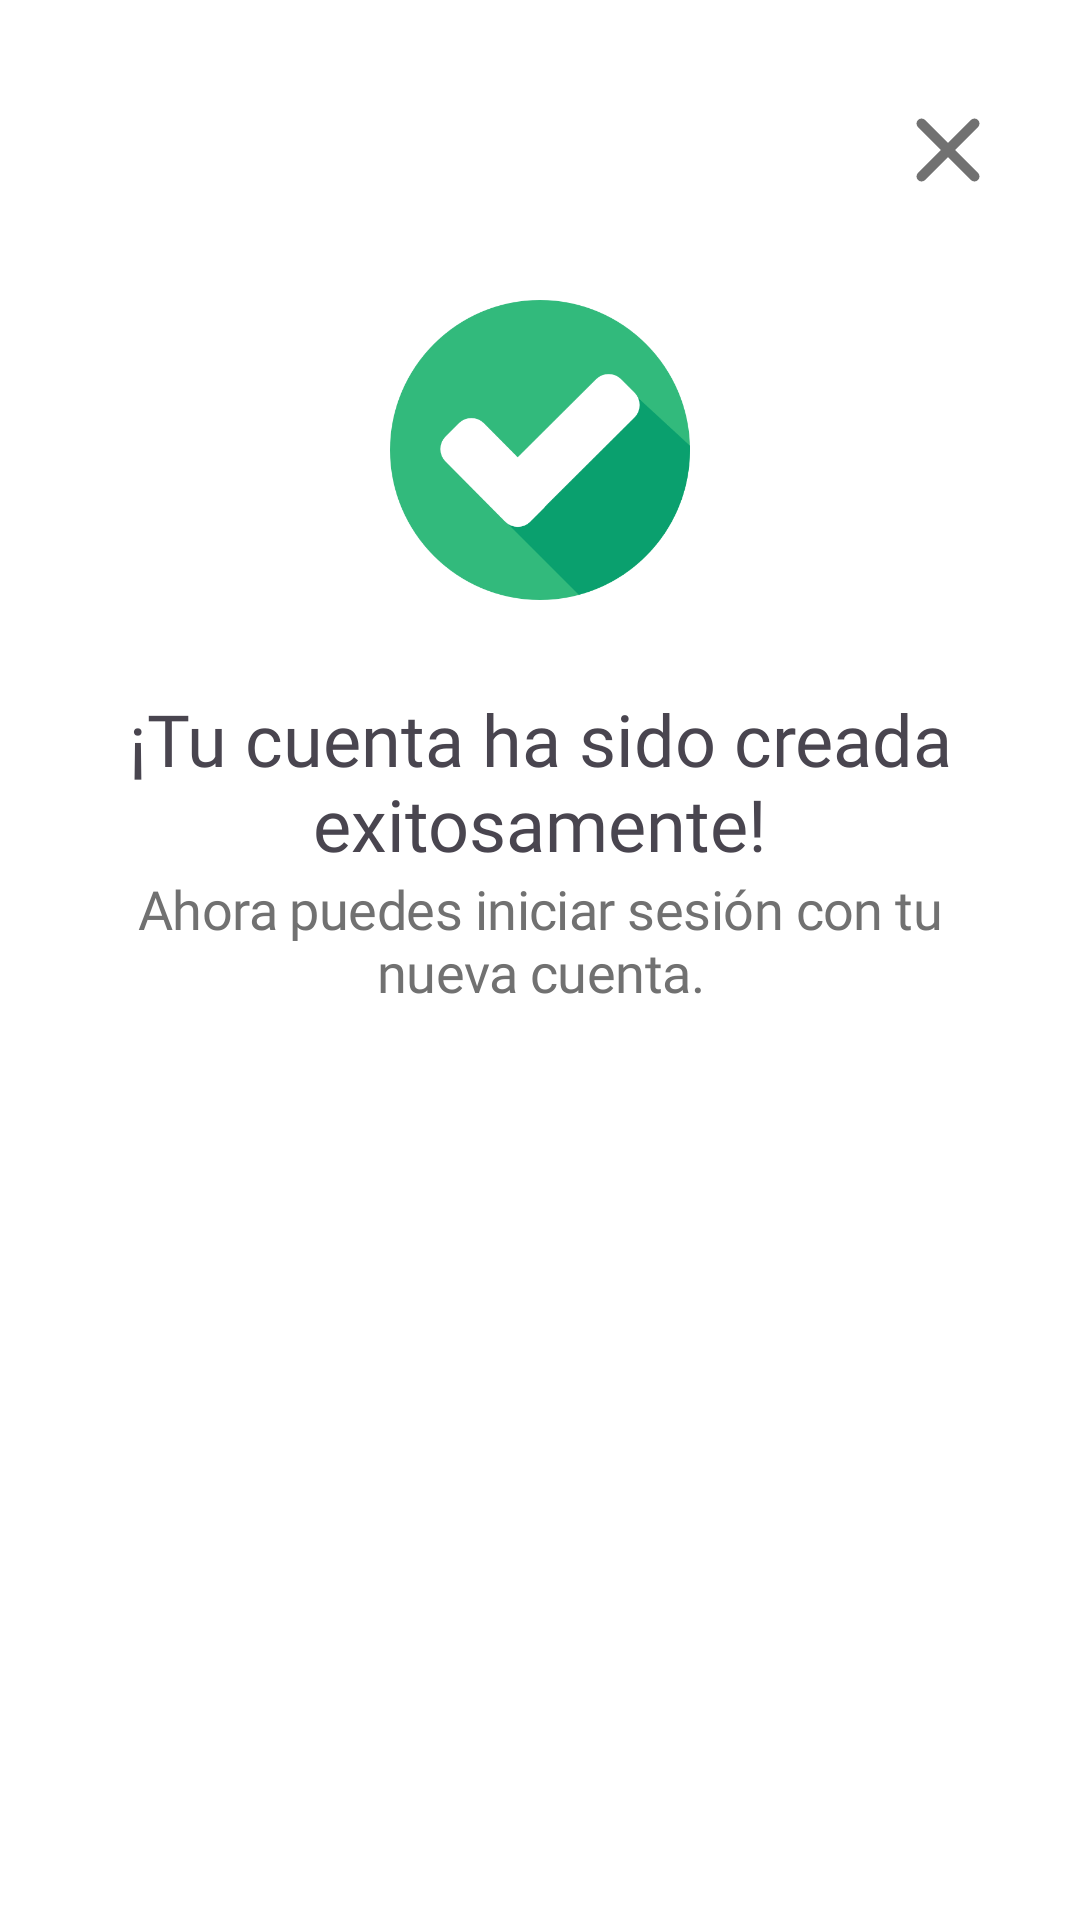

Icon bounding boxes for this 1080px×1920px phone screenshot, format bbox(x1, y1, x2, y2):
close: bbox(916, 118, 980, 182)
il success: bbox(390, 300, 690, 600)
